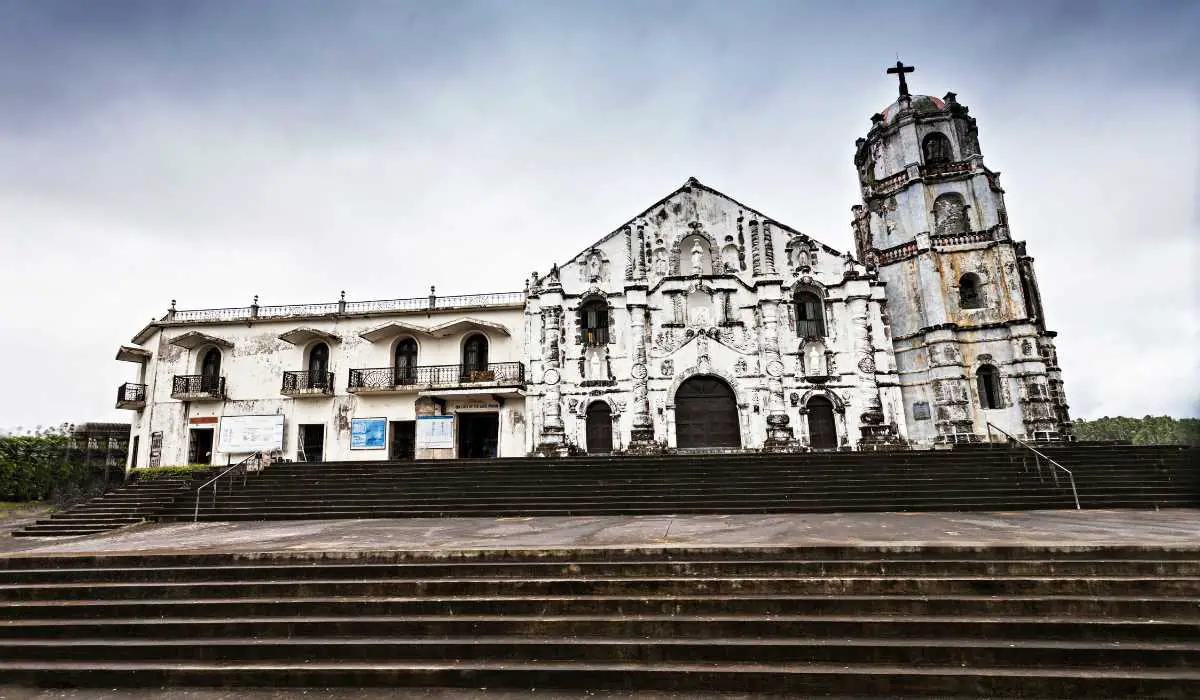daraga_church_daraga_albay: (524, 45, 1081, 445)
